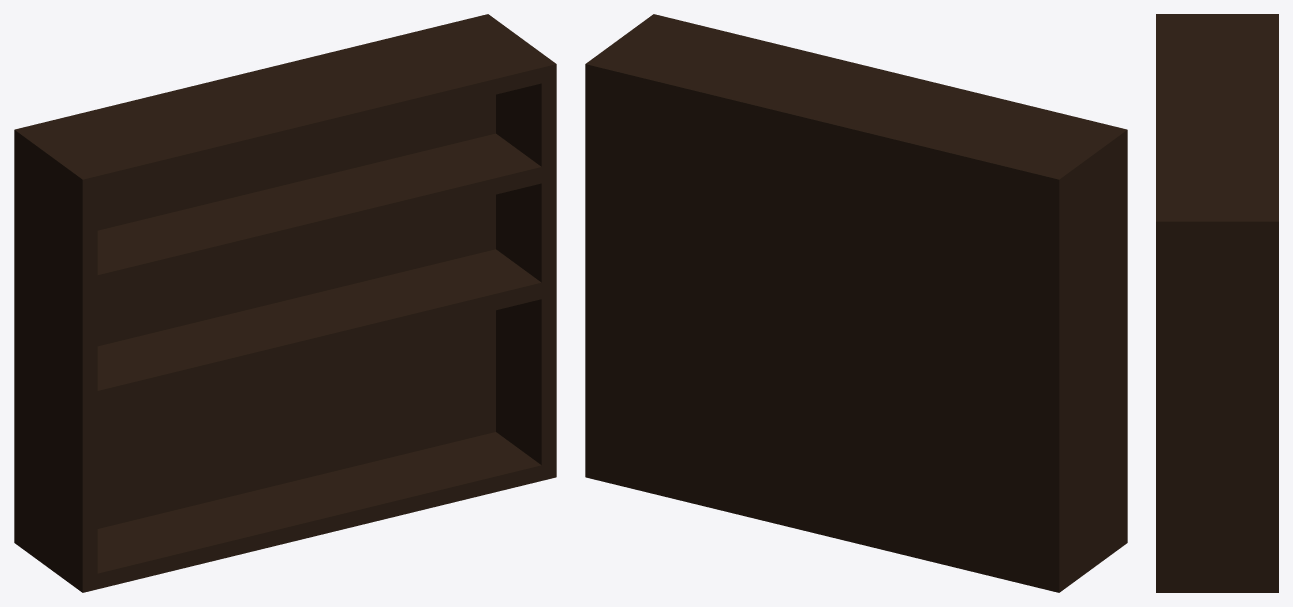
The model's file is Shelves_4.fbx.
The picture shows the model from 3 angles, left to right: view 1: azimuth 30°, elevation 25°; view 2: azimuth 150°, elevation 25°; view 3: azimuth 270°, elevation 25°; orthographic projection. The views are drawn at different scales.
Visible parts, largest first — view 1: Shelf_4Test; view 2: Shelf_4Test; view 3: Shelf_4Test.
Boxes of the visible parts, box(x1,y1,x2,y2) form: Shelf_4Test: box(14, 14, 556, 592); Shelf_4Test: box(585, 14, 1127, 592); Shelf_4Test: box(1156, 14, 1278, 592).
Bounding box in the file's own units: 600 × 500 × 150.
